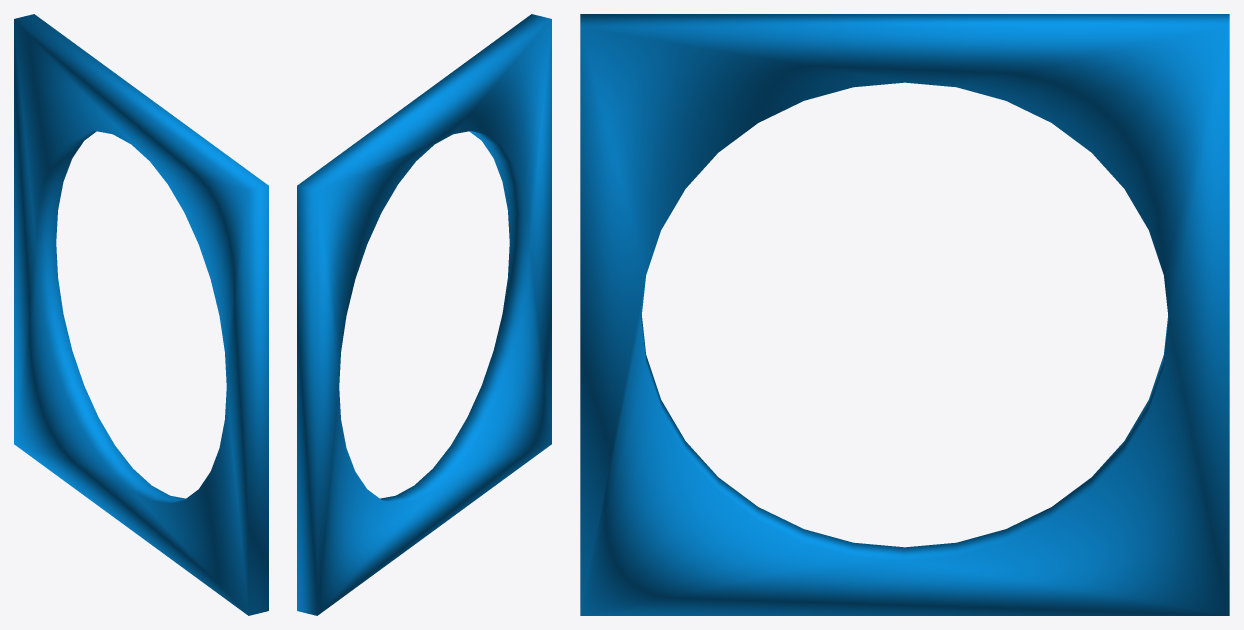
File: connect4cell.gltf
3 views of the same model, side by side, from view 1: azimuth 30°, elevation 25°; view 2: azimuth 150°, elevation 25°; view 3: azimuth 270°, elevation 25° (orthographic). The views are drawn at different scales.
Size of the model in its own units: 0.1 by 2 by 2.
